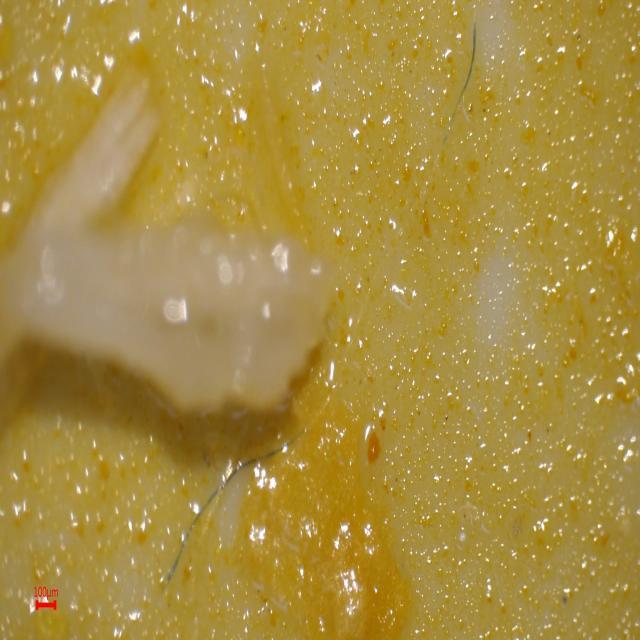fibers: (139, 407, 308, 588), (430, 19, 490, 144)
